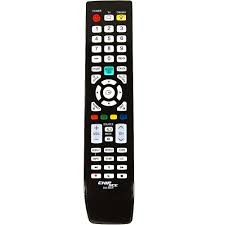remote control: (82, 0, 140, 225)
